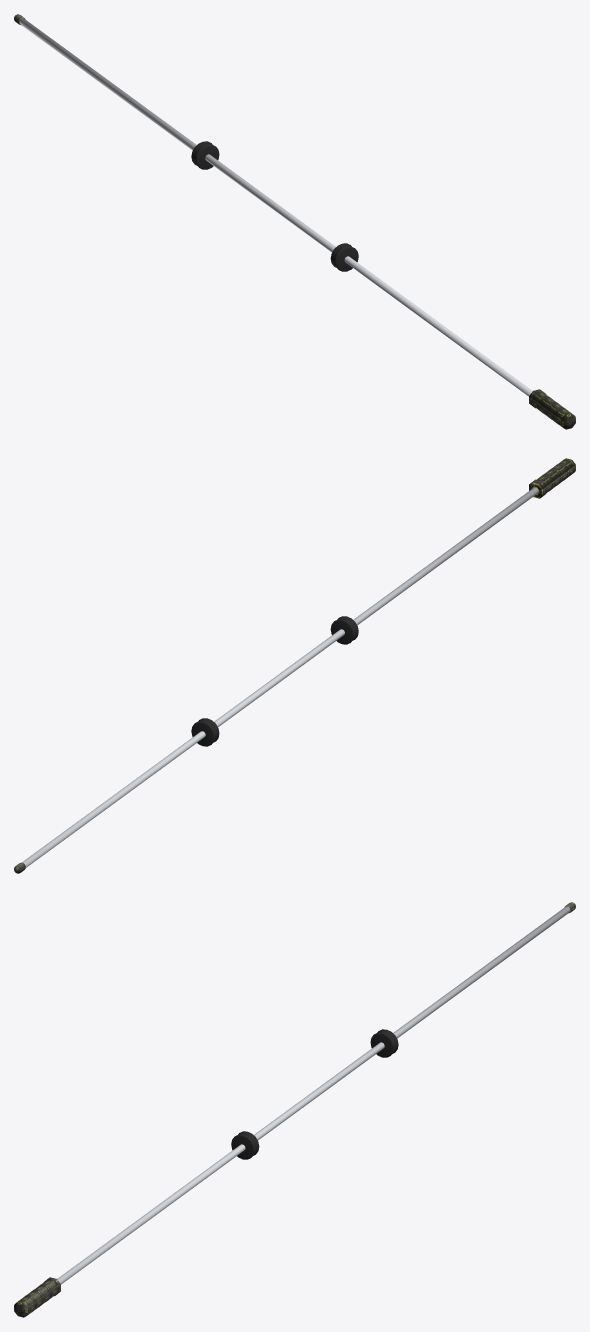
File: fuzeball_rod_2man.glb
The picture shows the model from 3 angles, top to bottom: view 1: azimuth 30°, elevation 25°; view 2: azimuth 150°, elevation 25°; view 3: azimuth 330°, elevation 25°; orthographic projection.
Parts seen in each view (by area): view 1: rod2_bar.004, rod2_handle.alien, CylinderR_rod2.001, CylinderL_rod2.001; view 2: rod2_bar.004, rod2_handle.alien, CylinderR_rod2.001, CylinderL_rod2.001; view 3: rod2_bar.004, rod2_handle.alien, CylinderR_rod2.001, CylinderL_rod2.001.
Boxes of the visible parts, x1,y1,x2,y2 form: rod2_bar.004: [19, 18, 532, 396]; rod2_handle.alien: [529, 389, 575, 429]; CylinderR_rod2.001: [191, 141, 219, 169]; CylinderL_rod2.001: [330, 243, 358, 271]; rod2_bar.004: [22, 487, 538, 867]; rod2_handle.alien: [529, 458, 575, 498]; CylinderR_rod2.001: [191, 718, 219, 746]; CylinderL_rod2.001: [330, 616, 358, 644]; rod2_bar.004: [57, 906, 570, 1284]; rod2_handle.alien: [14, 1277, 60, 1317]; CylinderR_rod2.001: [370, 1029, 398, 1057]; CylinderL_rod2.001: [231, 1131, 259, 1159].
Bounding box in the file's own units: 3.02 × 3.02 × 123.
3 materials, 1 textured.
